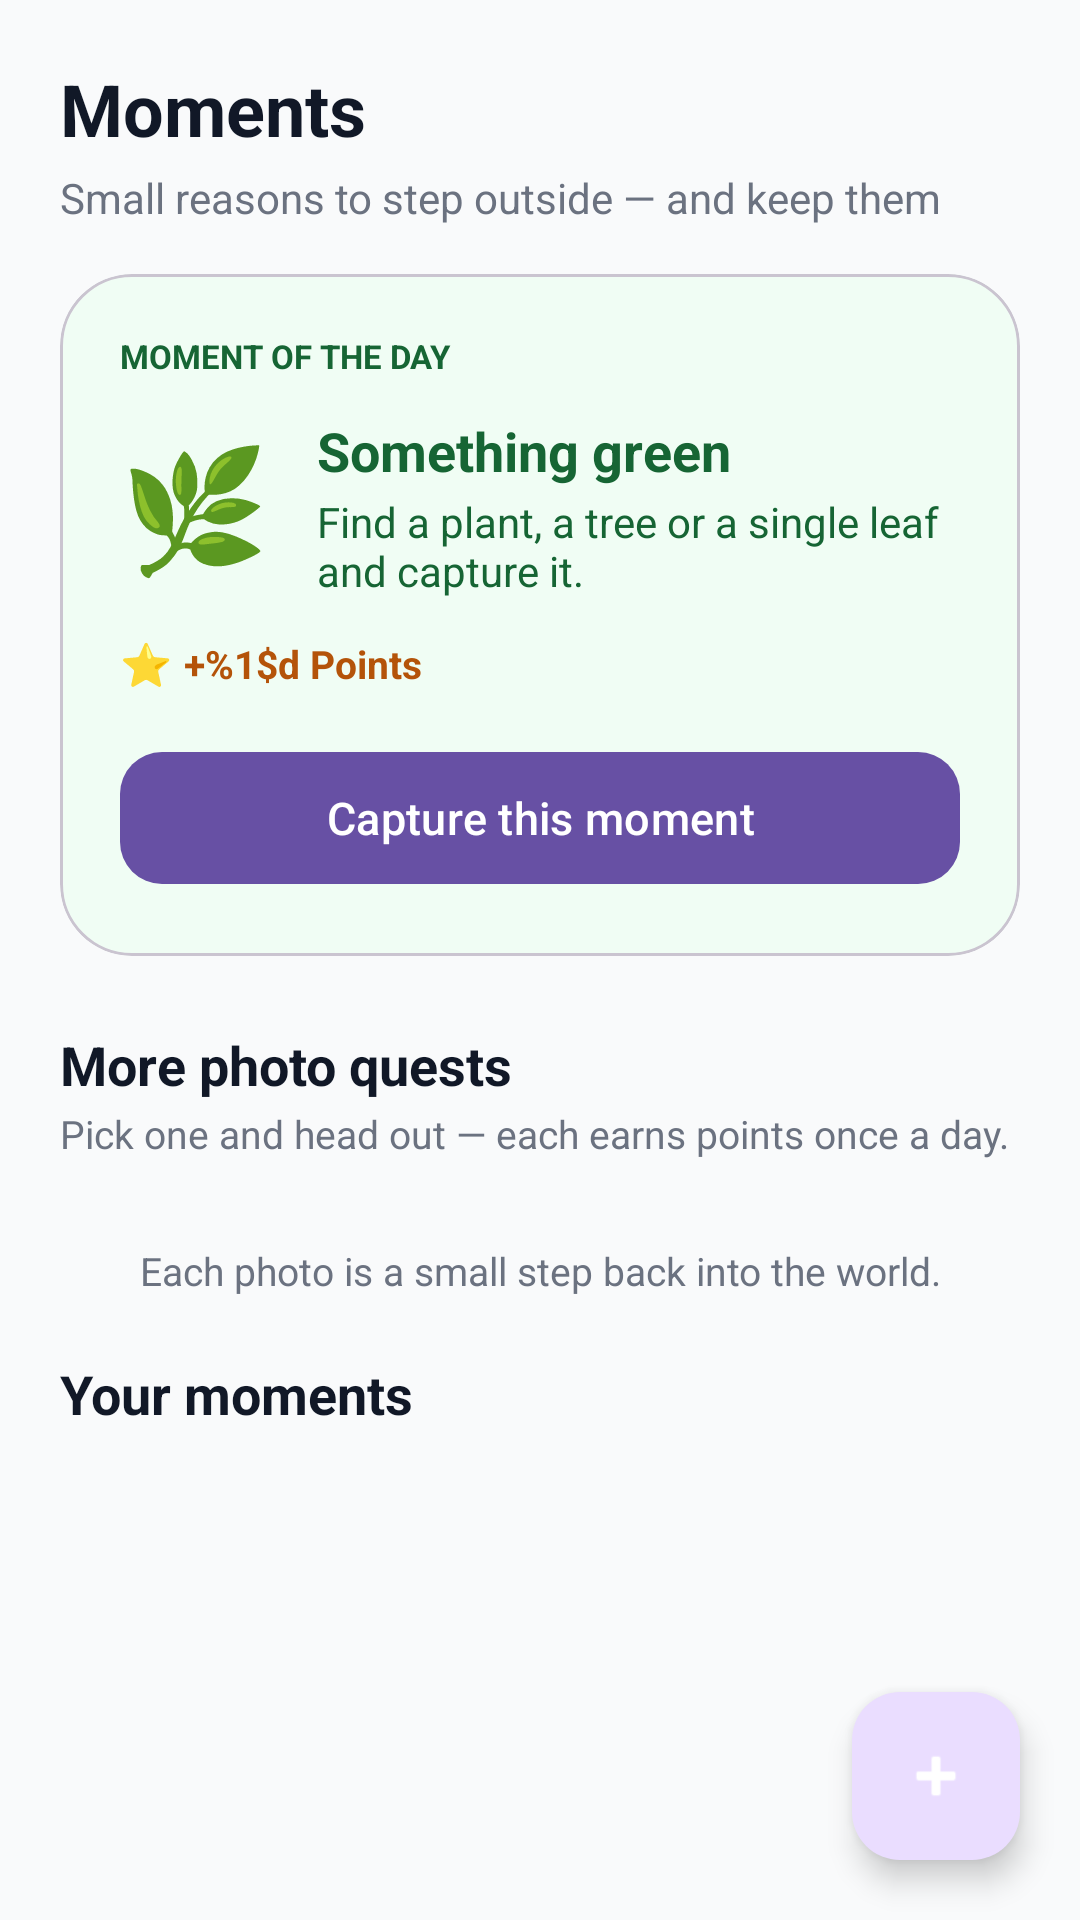

Where icons sit on this 1080*1920 app screen, as [x1=x1, y1=y1, x2=x2, y2=y2]:
Add a moment: [x1=852, y1=1692, x2=1020, y2=1860]
